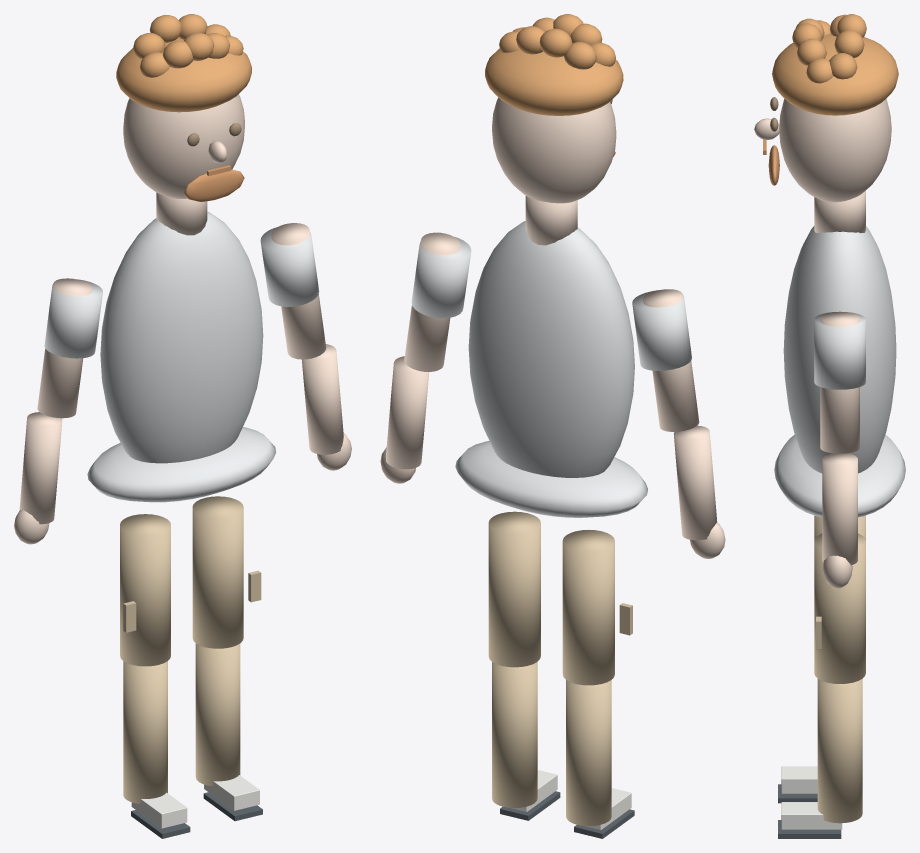
Rendered from MathwiduPawn.glb.
3 renders of one model, left to right at view 1: azimuth 30°, elevation 25°; view 2: azimuth 150°, elevation 25°; view 3: azimuth 270°, elevation 25°, orthographic. The views are drawn at different scales.
Visible parts, largest first — view 1: Torso, Head, ShirtHem, RightThigh, LeftThigh, RightShin, LeftShin, HairCap, LeftForearm, RightForearm, LeftShortSleeve, RightShortSleeve (+9 smaller); view 2: Torso, Head, ShirtHem, LeftThigh, RightThigh, HairCap, LeftShin, RightShin, LeftForearm, RightForearm, LeftShortSleeve, RightShortSleeve (+6 smaller); view 3: Torso, Head, RightShin, HairCap, RightThigh, ShirtHem, RightForearm, RightShortSleeve, RightUpperArm, NeckMesh, RightShoe, LeftShoe (+12 smaller).
Boxes of the visible parts, <box> form: Torso: <box>100,211,263,463</box>; Head: <box>123,94,244,198</box>; ShirtHem: <box>87,427,276,502</box>; RightThigh: <box>192,496,243,648</box>; LeftThigh: <box>120,514,170,666</box>; RightShin: <box>195,643,240,786</box>; LeftShin: <box>123,661,167,803</box>; HairCap: <box>116,37,251,112</box>; LeftForearm: <box>19,412,62,524</box>; RightForearm: <box>302,344,343,454</box>; LeftShortSleeve: <box>44,279,102,358</box>; RightShortSleeve: <box>260,227,319,306</box>; Torso: <box>468,221,634,477</box>; Head: <box>492,97,616,203</box>; ShirtHem: <box>455,441,647,517</box>; LeftThigh: <box>562,530,614,685</box>; RightThigh: <box>488,511,540,667</box>; HairCap: <box>485,48,623,115</box>; LeftShin: <box>566,680,611,826</box>; RightShin: <box>492,662,537,808</box>; LeftForearm: <box>673,425,717,540</box>; RightForearm: <box>386,356,429,469</box>; LeftShortSleeve: <box>632,290,691,370</box>; RightShortSleeve: <box>411,236,471,318</box>; Torso: <box>783,226,896,473</box>; Head: <box>779,98,891,202</box>; RightShin: <box>817,679,862,823</box>; HairCap: <box>772,33,898,115</box>; RightThigh: <box>814,533,865,683</box>; ShirtHem: <box>774,434,905,517</box>; RightForearm: <box>822,453,857,565</box>; RightShortSleeve: <box>814,311,865,389</box>; RightUpperArm: <box>820,312,859,453</box>; NeckMesh: <box>814,190,865,232</box>; RightShoe: <box>781,802,842,829</box>; LeftShoe: <box>781,766,817,793</box>.
Bounding box in the file's own units: 0.83 × 1.86 × 0.323.
